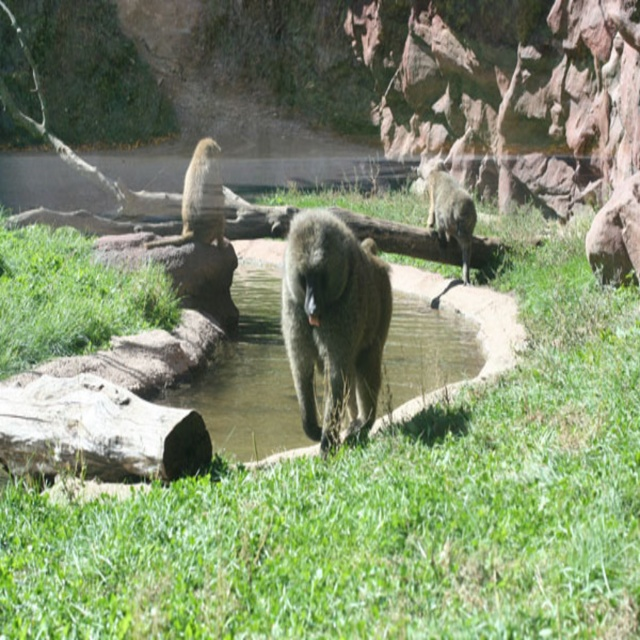Monkey: (279, 205, 395, 451), (421, 171, 477, 288), (180, 133, 227, 248)
